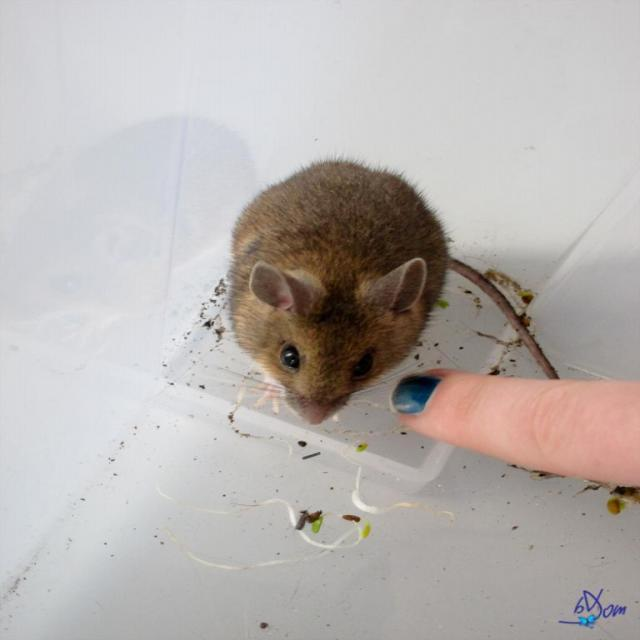rat: (222, 158, 560, 426)
